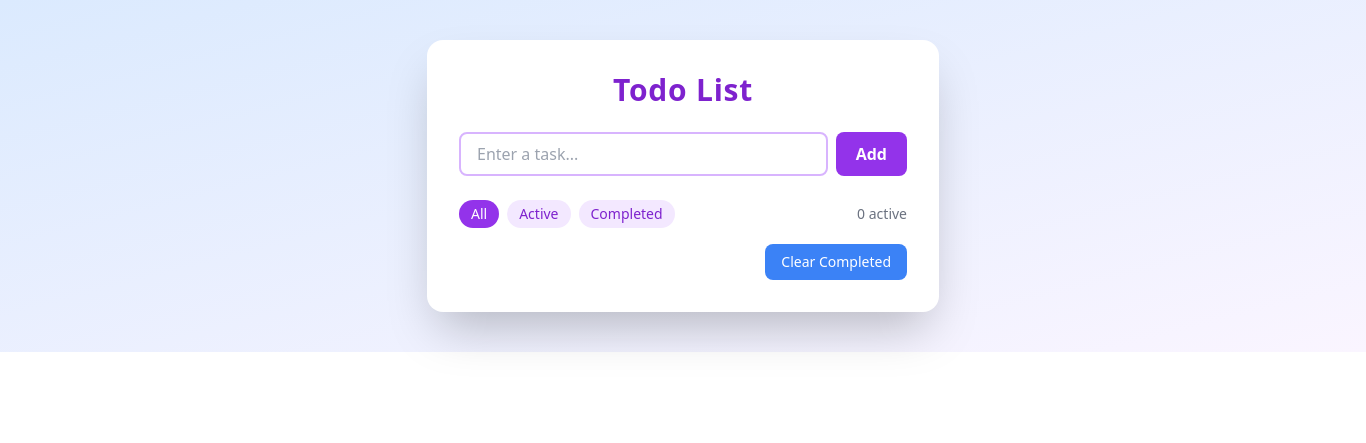
Test case: TodoList Component › cancels editing a todo
Type "Original Task" into the field with placeholder "Enter a task...". click: (643, 154)
box: x1=459 y1=132 x2=828 y2=176
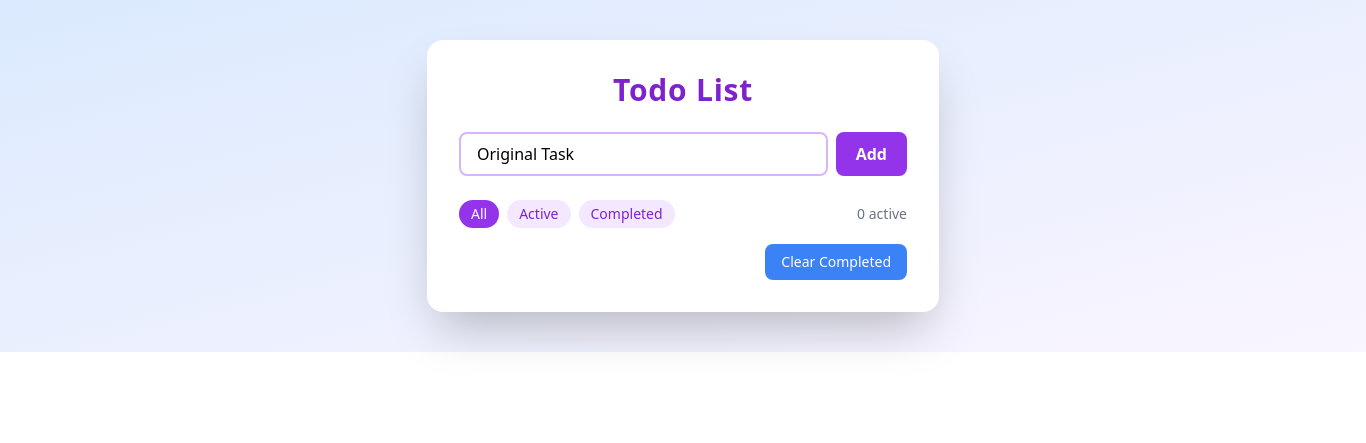
Click the button "Add". click: click(871, 154)
box: x1=836 y1=132 x2=907 y2=176
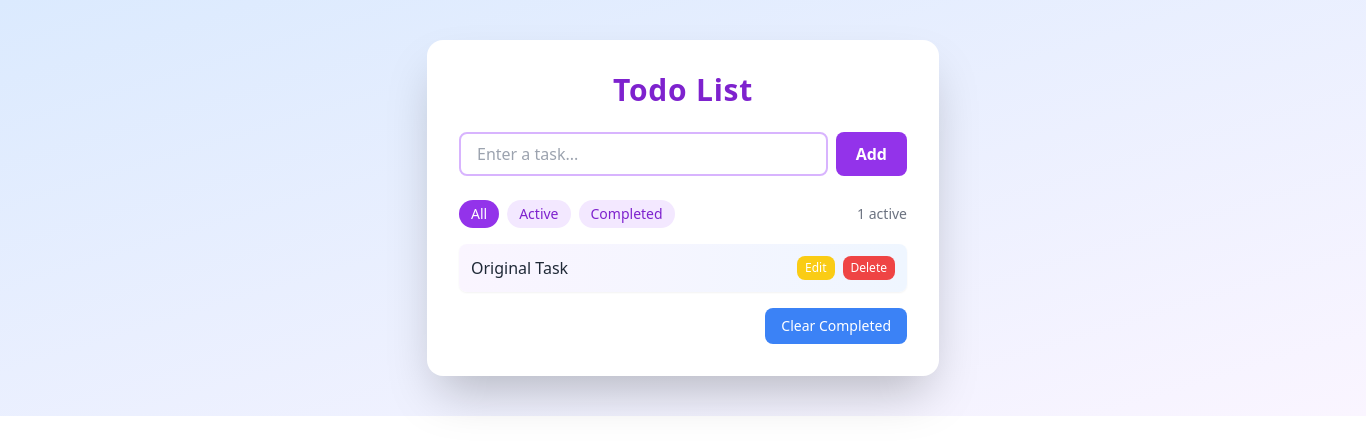
# Start editing
Click the button "Edit". click: click(816, 268)
box: x1=797 y1=256 x2=834 y2=280
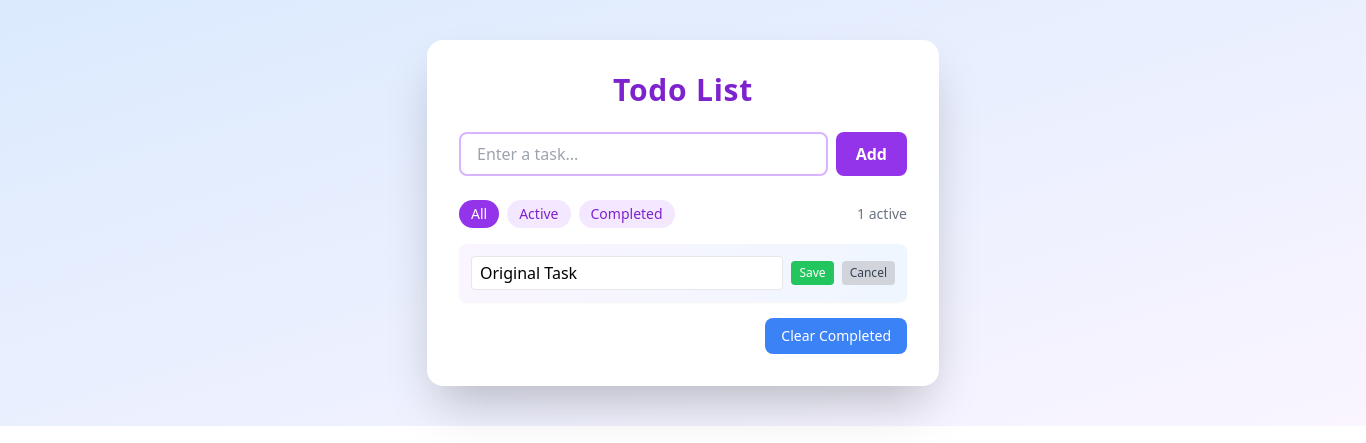
# Change the edit input value
Replace the text in the field showing "Original Task" with "Changed Task". click: (627, 273)
box: x1=471 y1=256 x2=784 y2=290
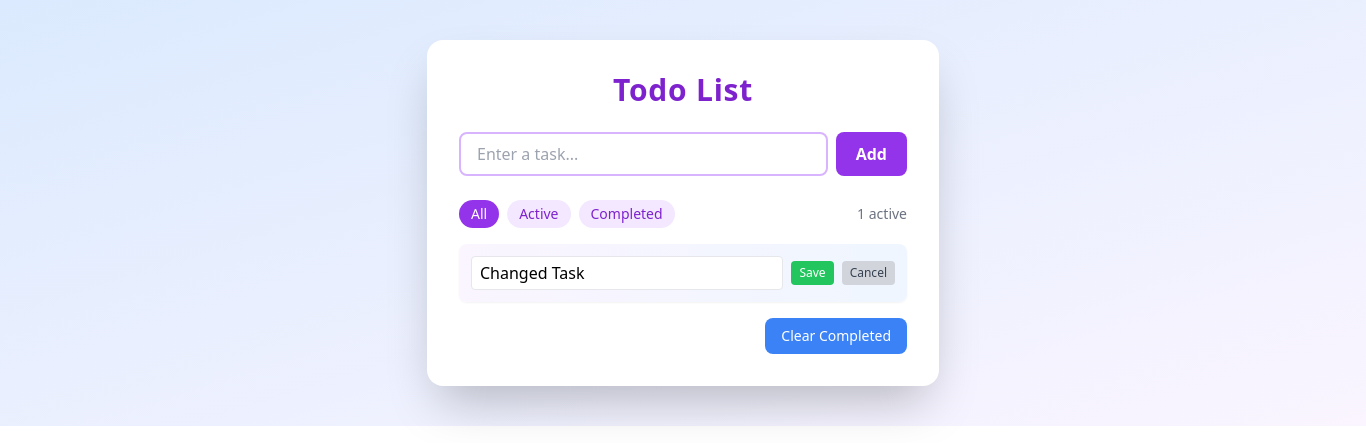
# Cancel the edit
Click the button "Cancel". click: click(868, 273)
box: x1=842 y1=261 x2=895 y2=285
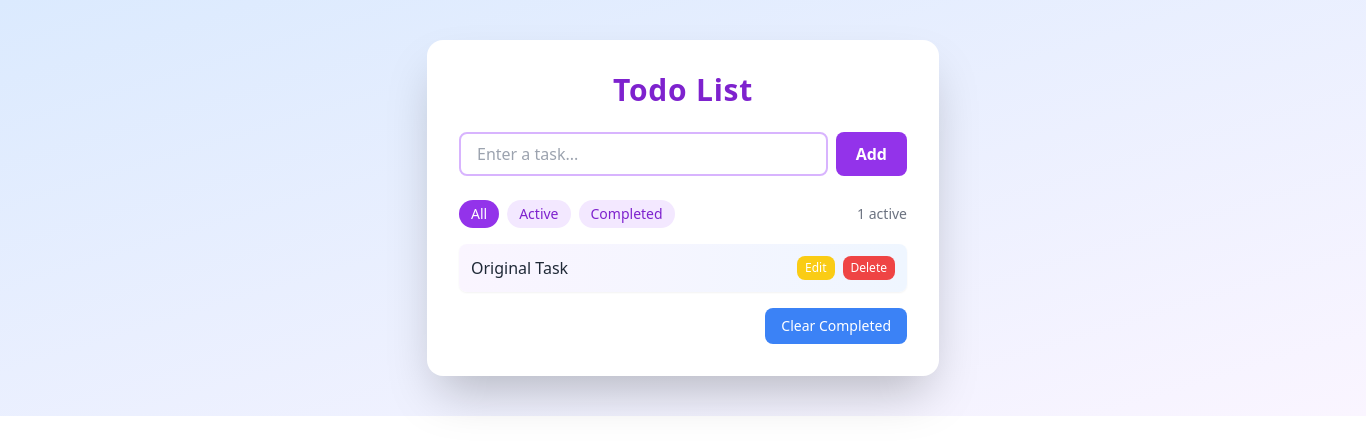
Expected: the text "Changed Task" is not shown
Now the text "Original Task" is shown, box x1=471 y1=257 x2=568 y2=279
